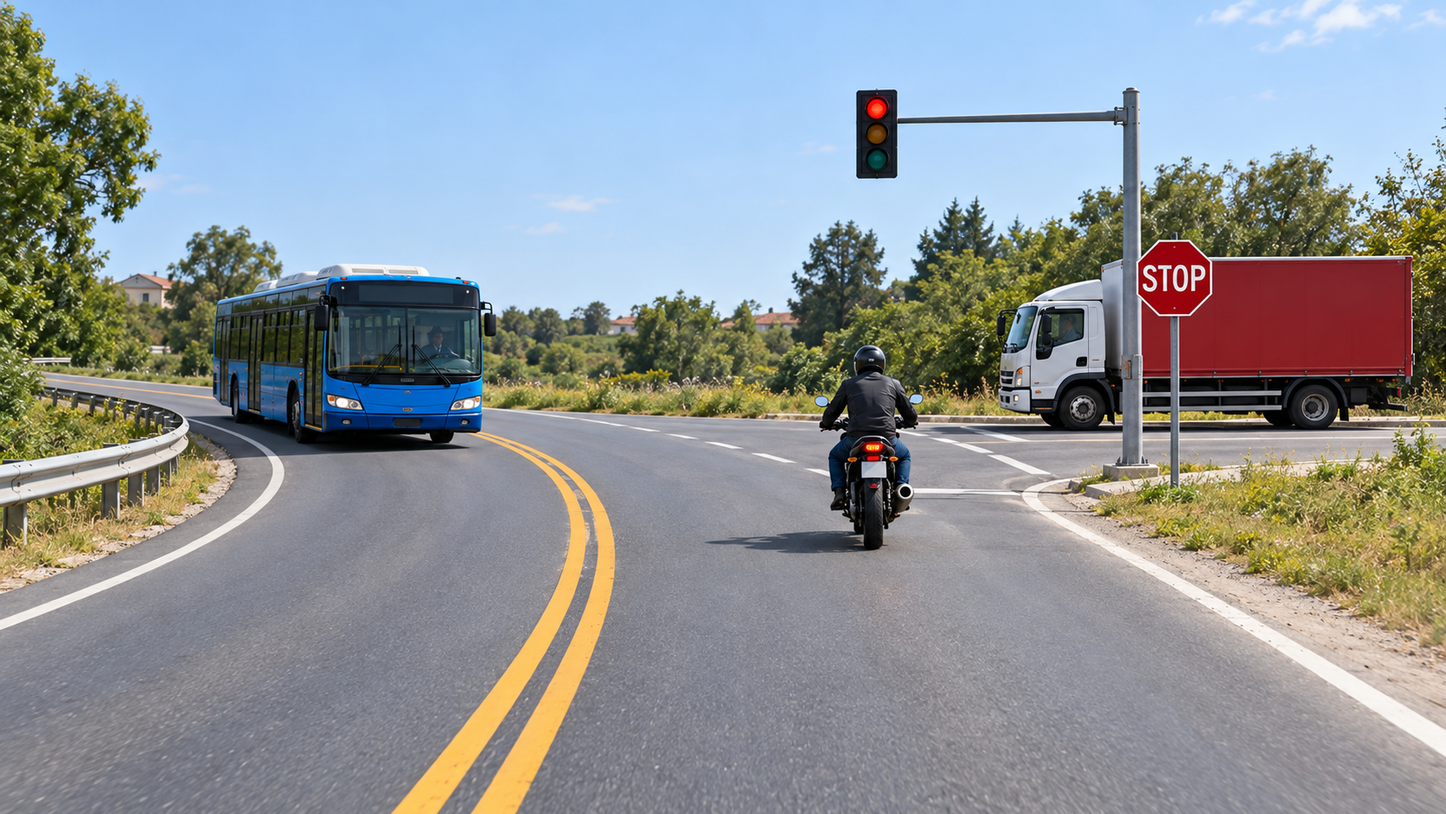bus: (209, 263, 496, 443)
motorcycle: (812, 345, 924, 548)
person: (816, 345, 920, 514)
stop_sign: (1140, 238, 1212, 324)
traffic_light: (855, 88, 899, 180)
truck: (995, 250, 1417, 436)
